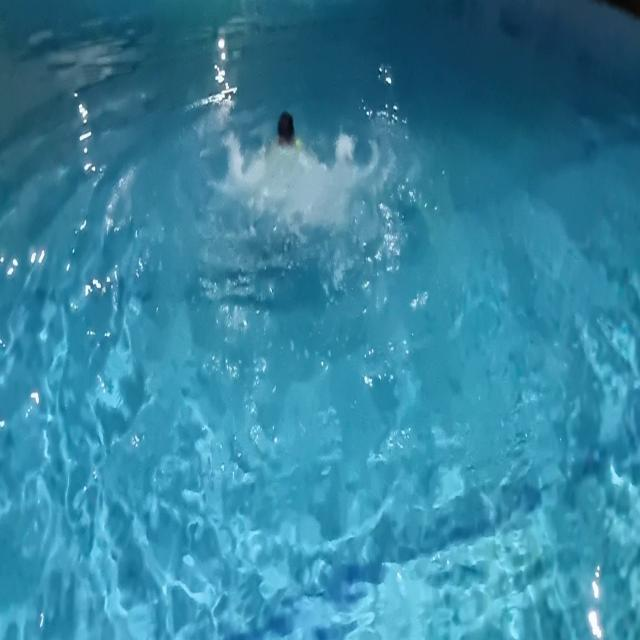Drowning: (210, 95, 368, 252)
